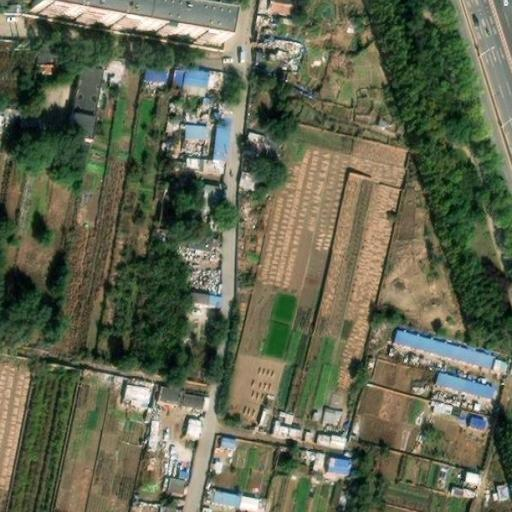building: (394, 329, 508, 374), (137, 7, 220, 48), (70, 61, 105, 138), (435, 370, 495, 399), (199, 70, 231, 119), (242, 130, 281, 164), (166, 66, 204, 96), (255, 49, 291, 75), (274, 411, 302, 439), (183, 229, 221, 249), (208, 118, 225, 160), (190, 182, 215, 210), (124, 382, 153, 406), (210, 489, 241, 511), (460, 409, 489, 432), (327, 452, 354, 476), (182, 156, 220, 173), (135, 61, 164, 82), (37, 48, 61, 72), (160, 387, 187, 407), (176, 122, 204, 141), (237, 495, 268, 512), (239, 174, 259, 199), (267, 0, 295, 17), (316, 432, 345, 448), (183, 392, 205, 412), (215, 432, 237, 451), (190, 292, 221, 304), (166, 479, 186, 497), (324, 407, 343, 425), (453, 485, 476, 499), (186, 418, 201, 439), (431, 401, 450, 415), (468, 471, 481, 483), (158, 506, 183, 512), (498, 485, 506, 500)
